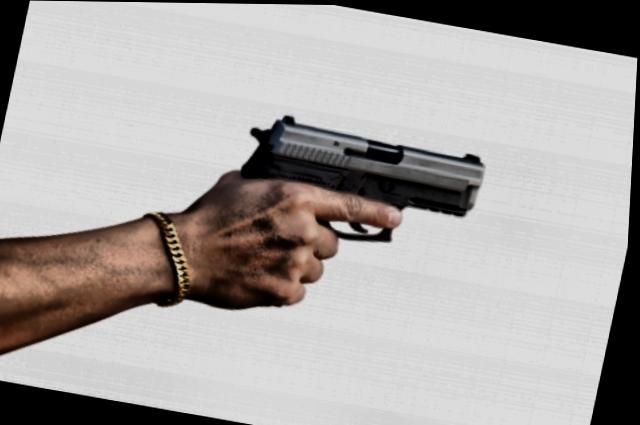pistol: (208, 100, 492, 350)
